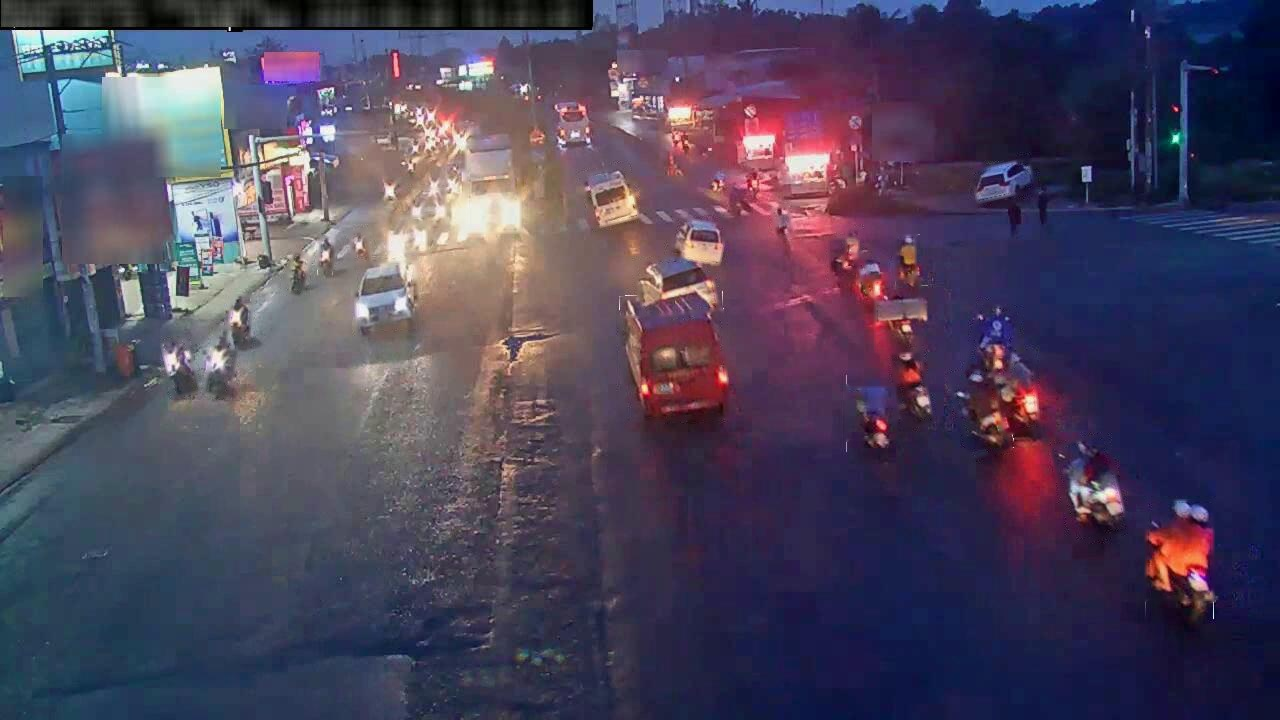Car: (620, 294, 729, 417), (354, 262, 415, 336), (640, 257, 719, 308), (975, 161, 1034, 205), (675, 219, 723, 266), (555, 101, 591, 148), (386, 217, 426, 254), (410, 192, 446, 221)
Motorcycle: (1145, 500, 1216, 626), (1065, 441, 1125, 528), (845, 377, 891, 449), (896, 351, 931, 420), (855, 261, 885, 305), (291, 268, 305, 294)
Motorcyclist: (955, 368, 1013, 448), (996, 352, 1040, 434), (873, 295, 927, 347), (976, 305, 1015, 373), (206, 332, 236, 398), (164, 342, 197, 397), (897, 235, 920, 288), (830, 237, 858, 279), (228, 298, 251, 349), (845, 232, 860, 267), (320, 237, 333, 277), (352, 234, 369, 262), (775, 207, 790, 236)
Pedestrian: (1007, 201, 1022, 233), (1037, 186, 1048, 226)
Traffic light: (1168, 103, 1184, 146)
Truck: (584, 171, 639, 228), (462, 134, 514, 193)
